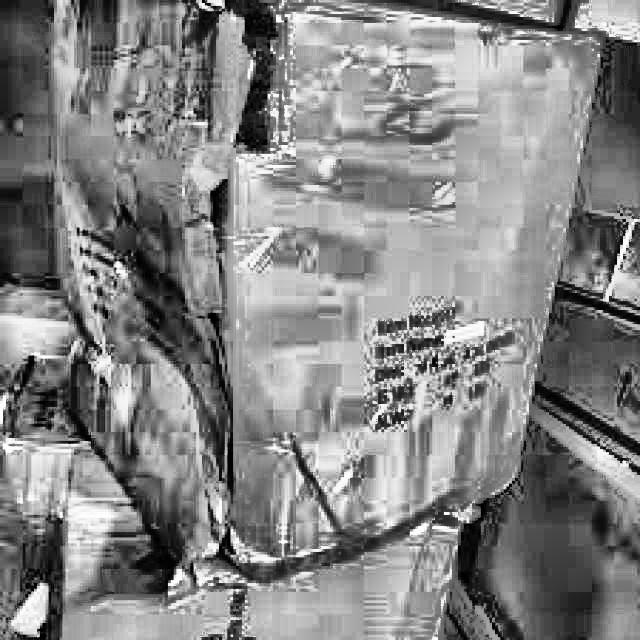box: (32, 0, 621, 569)
hole: (212, 11, 294, 168)
